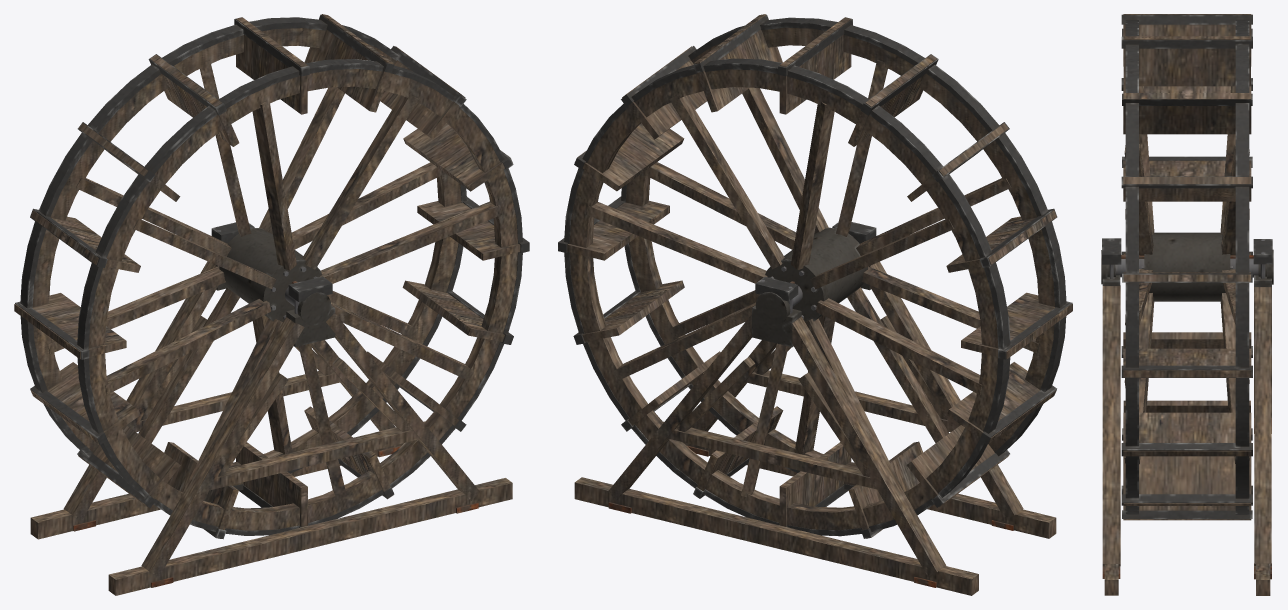
File: feWaterWheel_HD.fbx
The picture shows the model from 3 angles, left to right: view 1: azimuth 30°, elevation 25°; view 2: azimuth 150°, elevation 25°; view 3: azimuth 270°, elevation 25°; orthographic projection. The views are drawn at different scales.
Visible parts, largest first — view 1: FeSpin_Wheel, feWaterWheel_Base; view 2: FeSpin_Wheel, feWaterWheel_Base; view 3: FeSpin_Wheel, feWaterWheel_Base.
Part boxes in pixels (x1,y1,x2,y2): FeSpin_Wheel: (14, 14, 529, 539); feWaterWheel_Base: (30, 222, 512, 595); FeSpin_Wheel: (558, 14, 1072, 538); feWaterWheel_Base: (574, 222, 1056, 595); FeSpin_Wheel: (1101, 14, 1273, 520); feWaterWheel_Base: (1102, 238, 1272, 595).
Size of the model in its own units: 2.94 by 2.97 by 1.
Materials: 1 (1 with a texture image).
